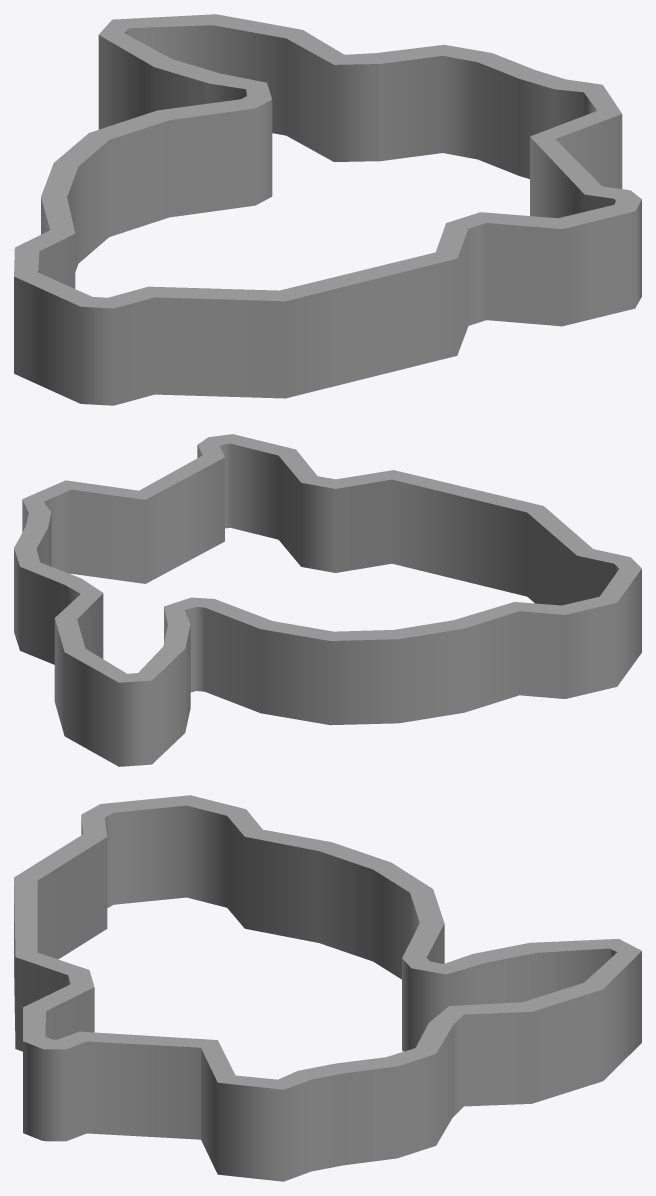
The model's file is BiscuitCutter_Rabbit_01.fbx.
3 views of the same model, one above another, from view 1: azimuth 30°, elevation 25°; view 2: azimuth 150°, elevation 25°; view 3: azimuth 270°, elevation 25° (orthographic). The views are drawn at different scales.
Visible parts, largest first — view 1: BiscuitCutter_Rabbit_01; view 2: BiscuitCutter_Rabbit_01; view 3: BiscuitCutter_Rabbit_01.
Part boxes in pixels (x1,y1,x2,y2): BiscuitCutter_Rabbit_01: (14,14,641,405); BiscuitCutter_Rabbit_01: (14,434,641,766); BiscuitCutter_Rabbit_01: (14,795,641,1181).
Bounding box in the file's own units: 0.0876 × 0.0128 × 0.079.
